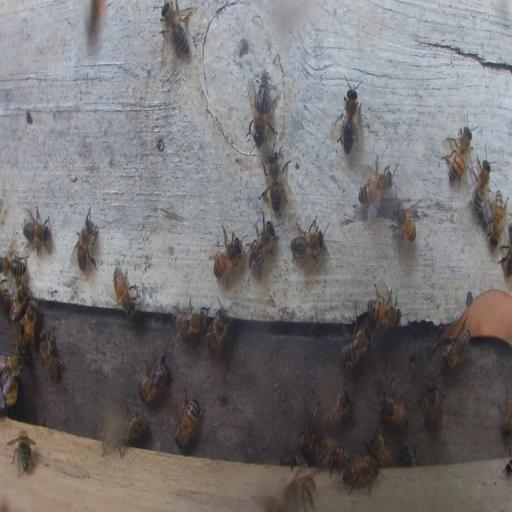nonpollenbee: (334, 80, 364, 152), (248, 73, 277, 145), (71, 207, 100, 274), (246, 215, 277, 277), (212, 226, 244, 284), (444, 124, 474, 185), (262, 147, 289, 213), (160, 2, 194, 54), (138, 354, 170, 403), (22, 206, 53, 256), (290, 219, 324, 264), (38, 327, 64, 383), (390, 196, 420, 244), (340, 322, 371, 368), (359, 165, 393, 206), (344, 455, 378, 495), (8, 427, 36, 475), (112, 264, 136, 320), (175, 396, 200, 448), (173, 302, 207, 339), (315, 436, 351, 470), (325, 385, 352, 430), (206, 304, 230, 354), (439, 327, 470, 365), (288, 472, 317, 512), (472, 157, 491, 217), (300, 405, 320, 462), (0, 352, 22, 402), (379, 388, 406, 428), (367, 297, 400, 328), (366, 427, 392, 466), (424, 382, 444, 431), (123, 402, 147, 442), (489, 190, 506, 245), (20, 300, 36, 354), (498, 380, 512, 439), (9, 280, 29, 320), (0, 251, 26, 279), (503, 222, 512, 280), (398, 443, 418, 465), (282, 451, 302, 467)
pollenbee: (89, 0, 110, 44)
